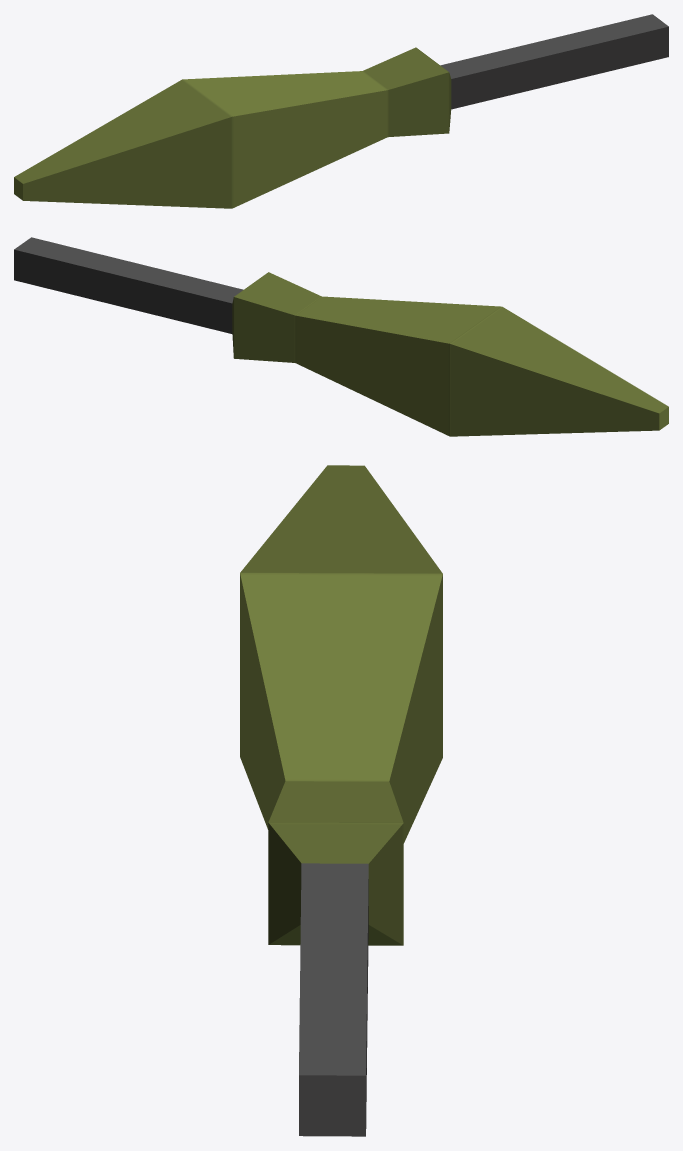
File: SimpleMilitary_Rocket.fbx
3 views of the same model, one above another, from view 1: azimuth 30°, elevation 25°; view 2: azimuth 150°, elevation 25°; view 3: azimuth 270°, elevation 25° (orthographic). The views are drawn at different scales.
Visible parts, largest first — view 1: Weapon_Rocket; view 2: Weapon_Rocket; view 3: Weapon_Rocket.
Boxes of the visible parts, x1=… form: Weapon_Rocket: x1=14, y1=14, x2=668, y2=208; Weapon_Rocket: x1=14, y1=237, x2=668, y2=436; Weapon_Rocket: x1=240, y1=465, x2=442, y2=1136.
Bounding box in the file's own units: 171 × 23.46 × 23.46.
